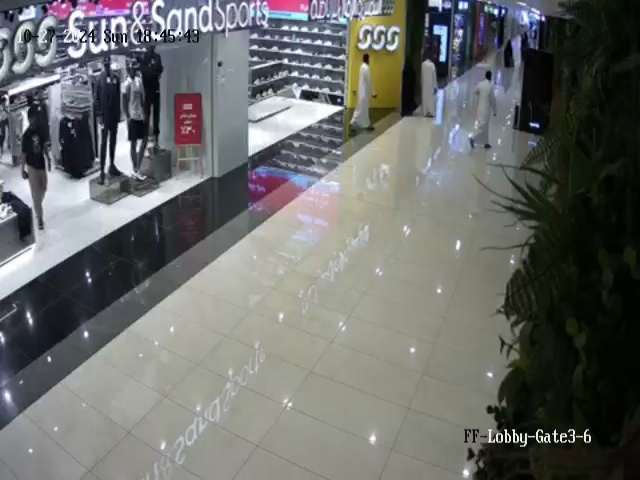female: (499, 38, 519, 71)
male: (19, 104, 53, 231), (468, 70, 497, 150), (349, 53, 376, 132), (421, 50, 438, 118)
other: (94, 56, 124, 182), (121, 61, 150, 181), (140, 41, 164, 137)
